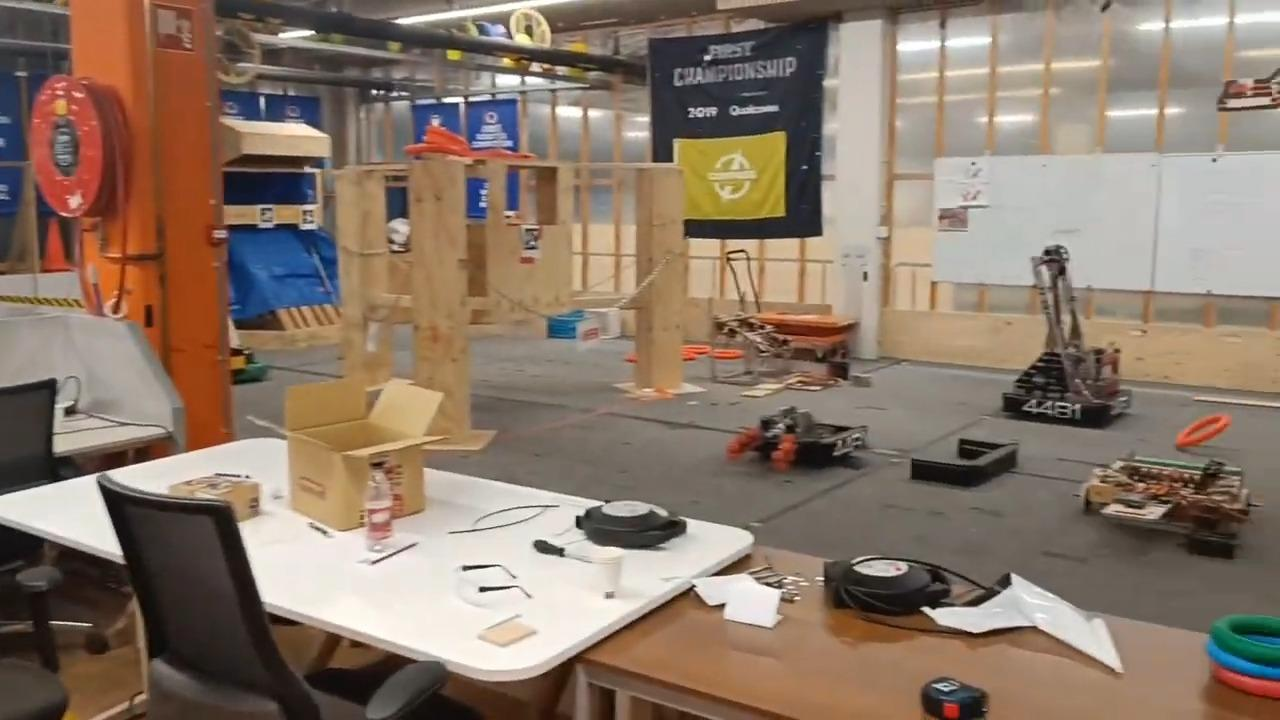robot: (999, 244, 1133, 428), (725, 404, 871, 469)
